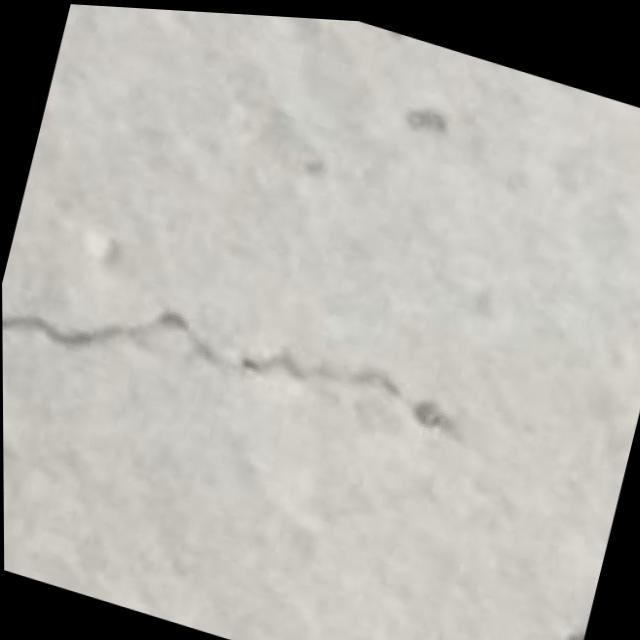Crack: (1, 245, 482, 479)
